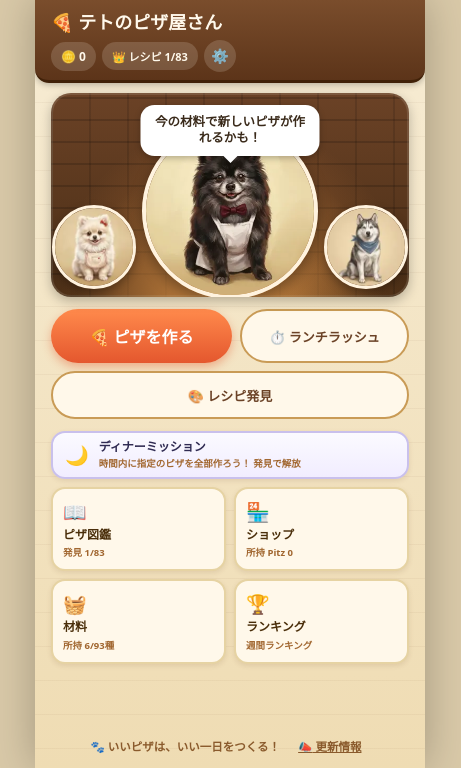
Test: I5a-3 / I5b-3: Home and Inventory read '所持 N/M種' from the obtainable-ingredient SSOT › an I5a-era save owning W1 materials counts them (now obtainable), never an unknown id, on both
This screenshot has width=461, height=768.
Click the button "🧺 材料 所持 6/93種" at (138, 622), box x1=51 y1=579 x2=226 y2=664
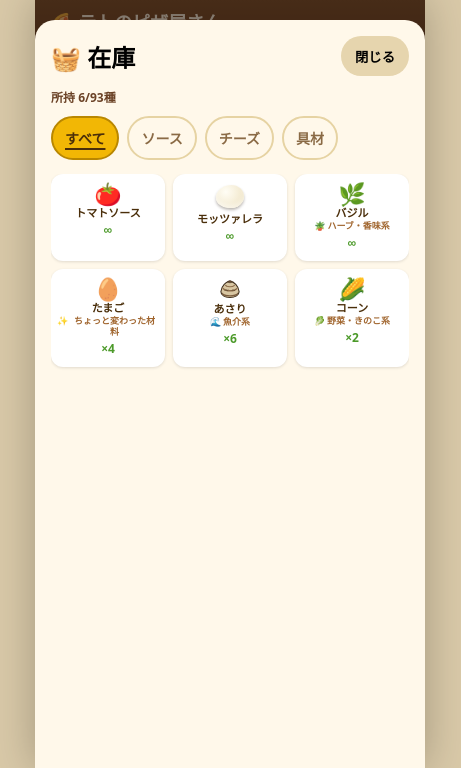
expect the text "あさり" is shown: met, box x1=214 y1=302 x2=246 y2=315
expect the text "コーン" is shown: met, box x1=336 y1=301 x2=368 y2=314
